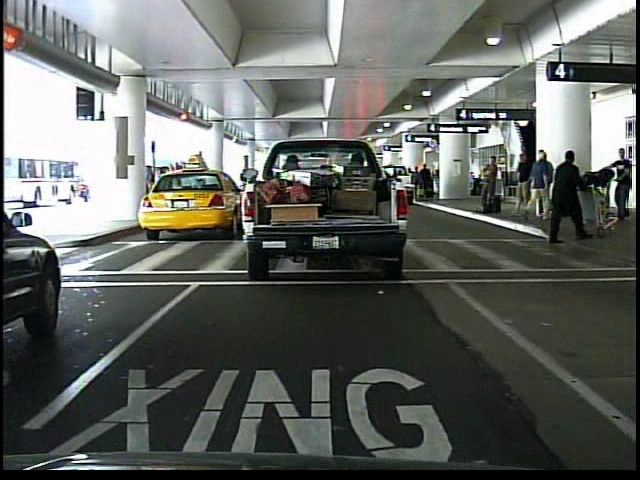person: (543, 150, 591, 247), (611, 145, 636, 223), (527, 146, 552, 224)
